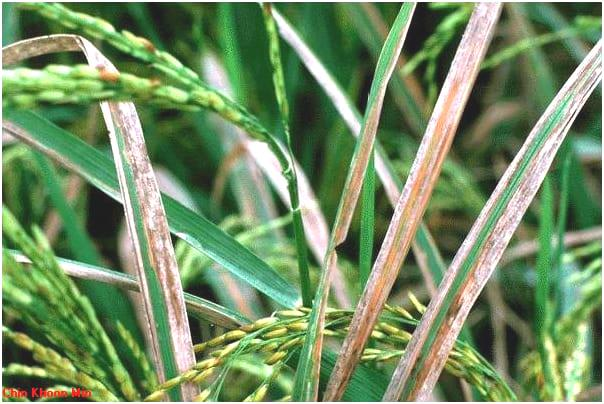2 BacterialBlight: (330, 37, 560, 368), (74, 42, 199, 382)
